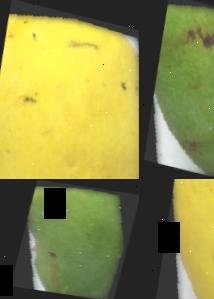Ripe: (0, 0, 139, 179), (139, 179, 214, 299)
Unripe: (0, 179, 139, 299), (139, 0, 214, 179)
